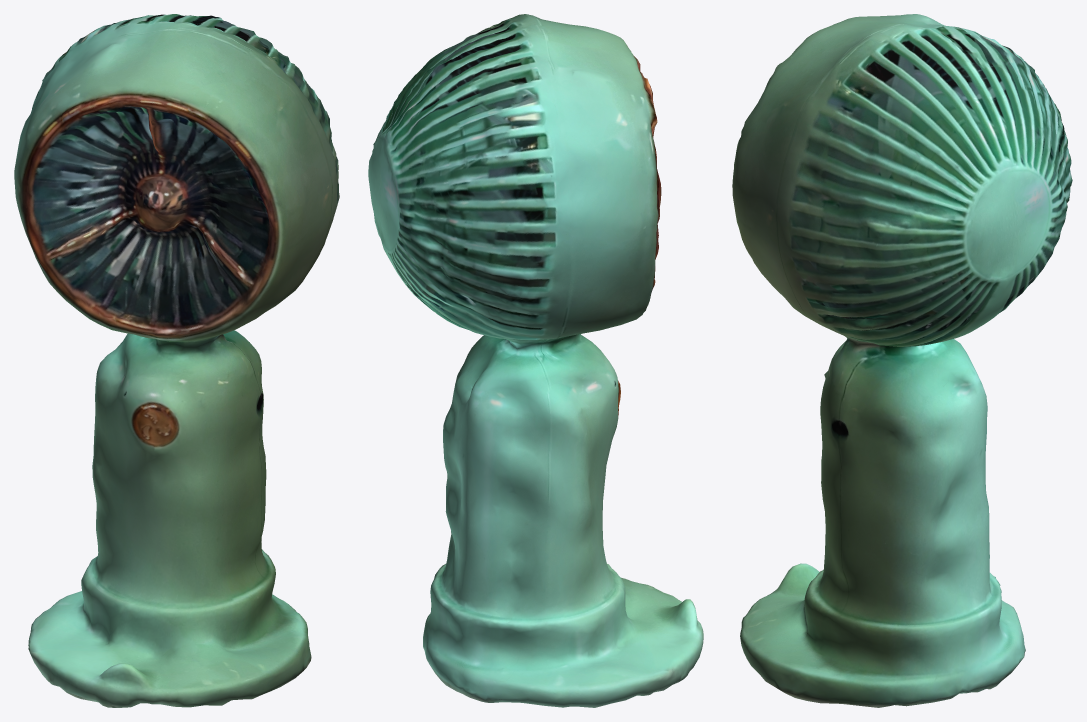
File: fan.obj
The picture shows the model from 3 angles, left to right: view 1: azimuth 30°, elevation 25°; view 2: azimuth 150°, elevation 25°; view 3: azimuth 270°, elevation 25°; orthographic projection.
Visible parts, largest first — view 1: mesh_0; view 2: mesh_0; view 3: mesh_0.
Part boxes in pixels (left/top/right/bottom): mesh_0: left=14, top=14, right=339, bottom=707; mesh_0: left=368, top=14, right=703, bottom=707; mesh_0: left=732, top=14, right=1072, bottom=707.
Size of the model in its own units: 0.0694 by 0.1472 by 0.0705.
1 material, 1 textured.
